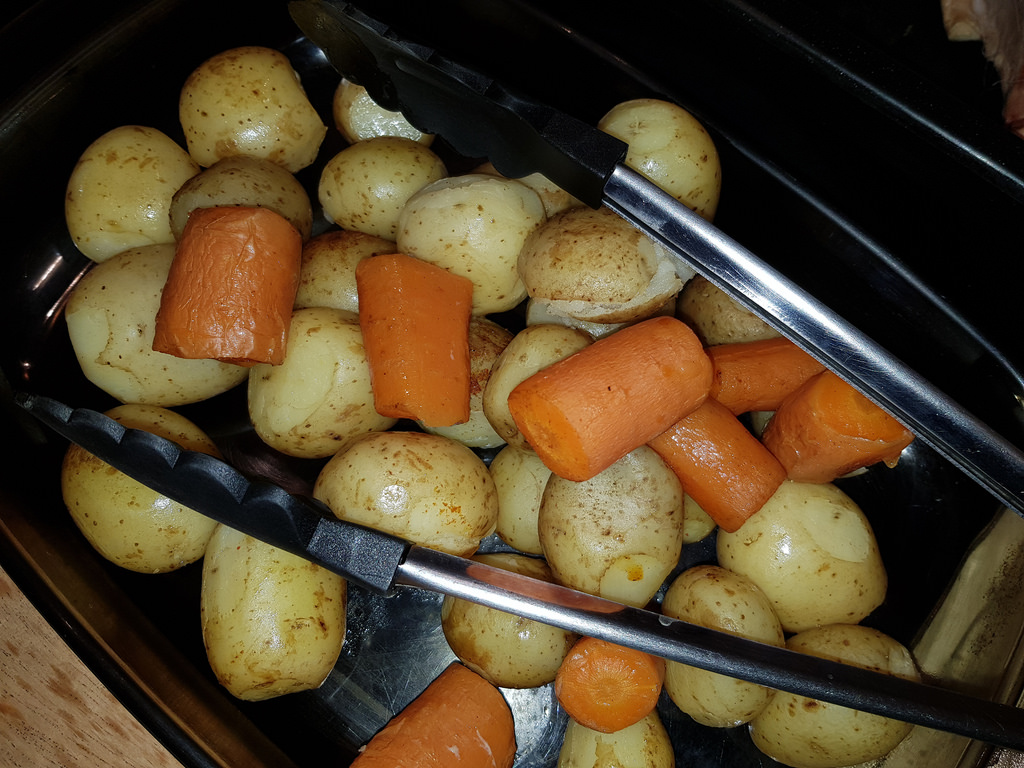boiled potatoes: (673, 565, 917, 752), (44, 122, 191, 407), (413, 188, 697, 315), (195, 515, 351, 700), (714, 479, 895, 621), (59, 413, 236, 553), (317, 435, 504, 557), (550, 446, 683, 600), (250, 322, 408, 447), (168, 57, 342, 166), (441, 587, 581, 689), (314, 141, 456, 232)
